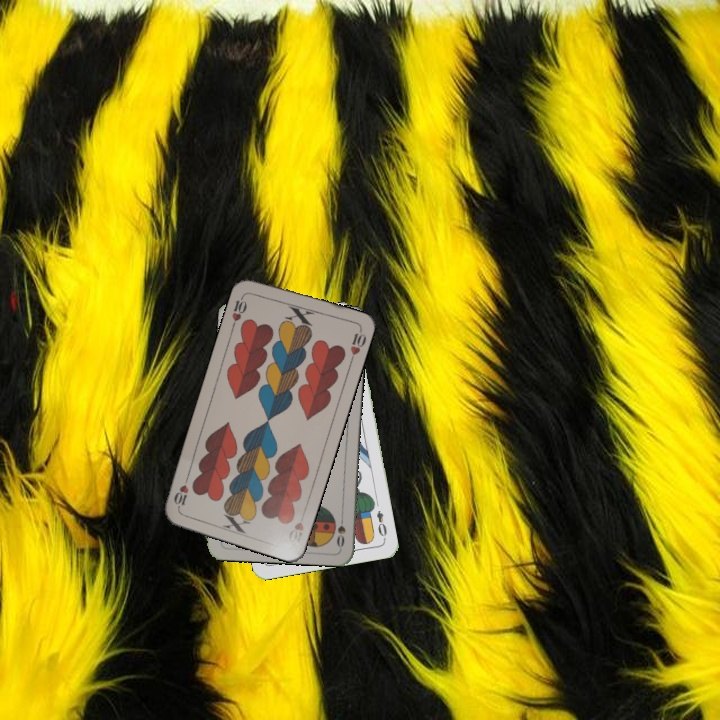EO: (373, 506, 390, 542)
H10: (228, 290, 250, 330), (284, 518, 306, 545)
SO: (332, 509, 348, 550)
